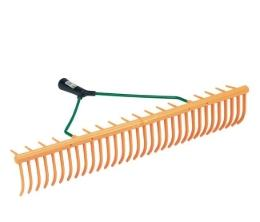RATEAU: (0, 49, 260, 222)
